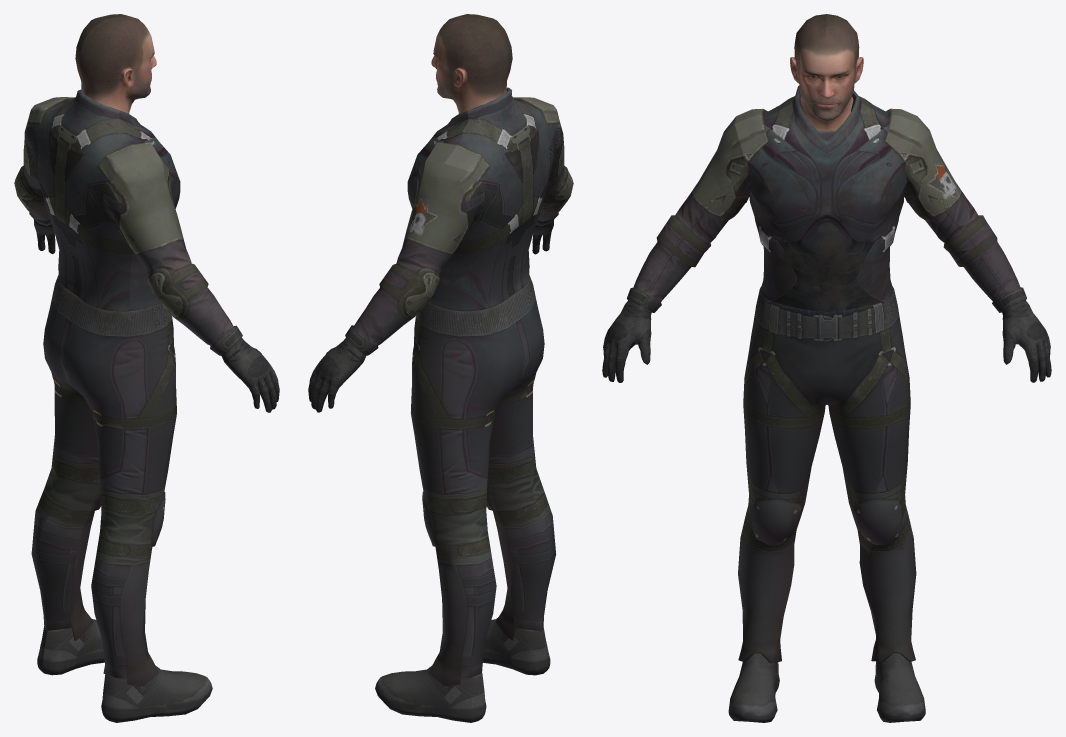
File: person-badguy-real.glb
The picture shows the model from 3 angles, left to right: view 1: azimuth 30°, elevation 25°; view 2: azimuth 150°, elevation 25°; view 3: azimuth 270°, elevation 25°; orthographic projection. The views are drawn at different scales.
Visible parts, largest first — view 1: VICTOR; view 2: VICTOR; view 3: VICTOR.
Boxes of the visible parts, left/top/right/bottom form: VICTOR: left=14, top=14, right=279, bottom=722; VICTOR: left=308, top=14, right=573, bottom=722; VICTOR: left=602, top=14, right=1051, bottom=722.
Bounding box in the file's own units: 0.3429 × 1.8 × 1.07.
3 materials, 3 textured.
